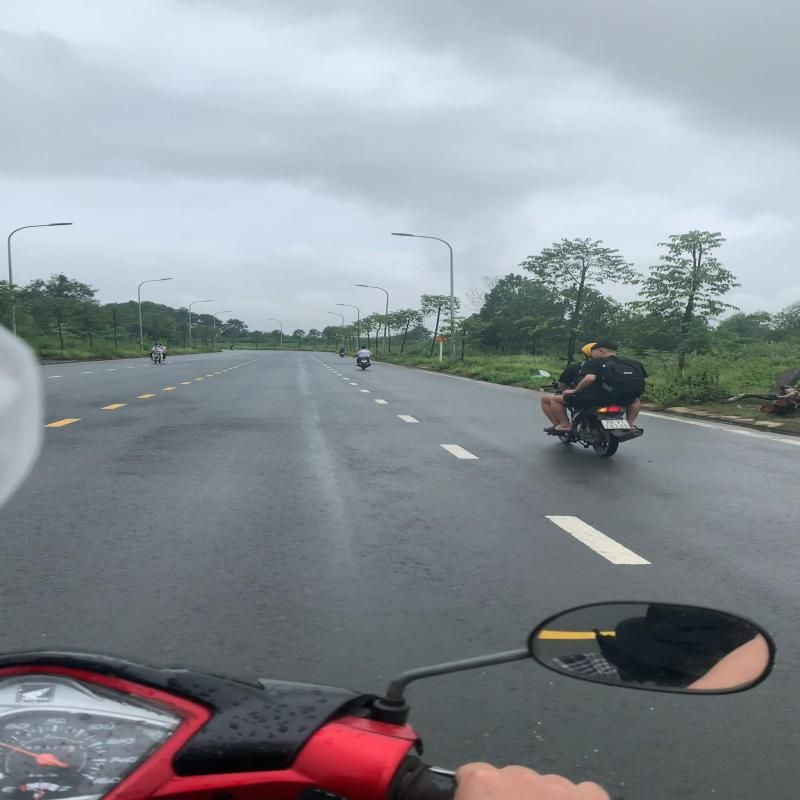helmet: (581, 342, 601, 357)
licenseplate: (600, 419, 632, 430)
motorcyclist: (534, 339, 652, 459)
nohelmet: (592, 342, 618, 356)
